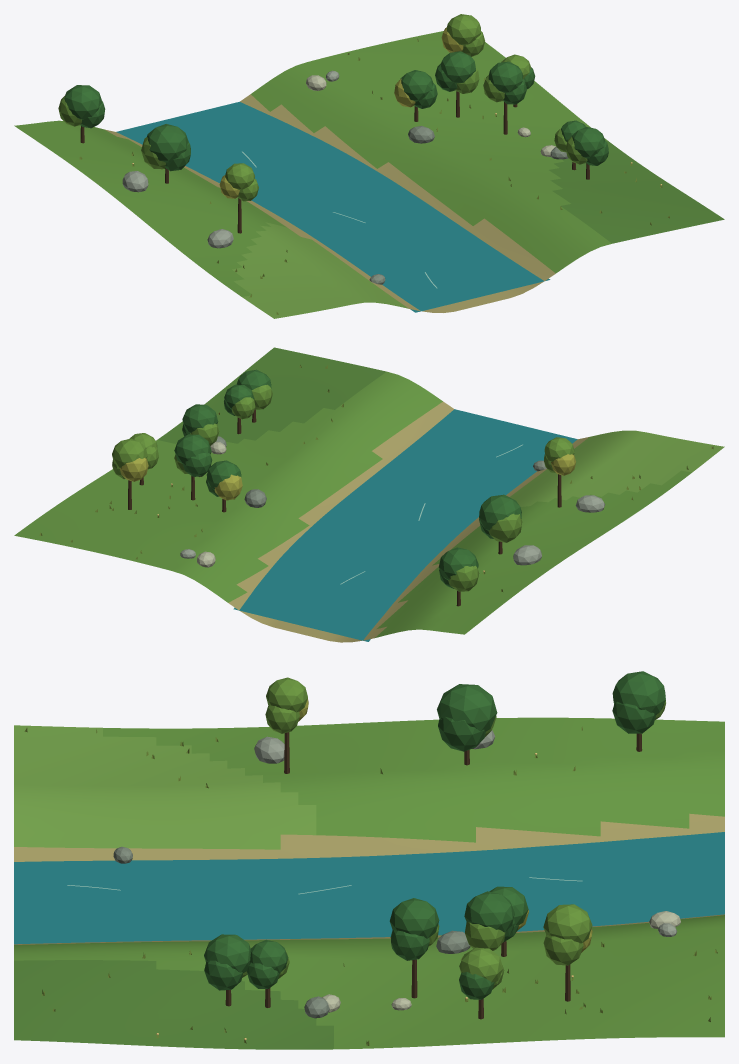
The model's file is Chunk_X0_Y0_Z-3.fbx.
3 views of the same model, one above another, from view 1: azimuth 30°, elevation 25°; view 2: azimuth 150°, elevation 25°; view 3: azimuth 270°, elevation 25° (orthographic). The views are drawn at different scales.
Parts seen in each view (by area): view 1: Terrain.021, Water, Canopies.021, Rocks.021, Trunks.021; view 2: Terrain.021, Water, Canopies.021, Rocks.021, Trunks.021; view 3: Terrain.021, Water, Canopies.021, Rocks.021, Trunks.021.
Boxes of the visible parts, box(x1,y1,x2,y2) form: Terrain.021: box(14, 31, 724, 318); Water: box(116, 101, 550, 312); Canopies.021: box(58, 14, 608, 201); Rocks.021: box(122, 70, 568, 284); Trunks.021: box(80, 91, 589, 233); Terrain.021: box(14, 347, 724, 642); Water: box(233, 409, 577, 641); Canopies.021: box(112, 369, 575, 591); Rocks.021: box(180, 436, 605, 567); Trunks.021: box(128, 409, 561, 606); Terrain.021: box(14, 717, 724, 1049); Water: box(14, 832, 724, 944); Canopies.021: box(204, 671, 665, 999); Rocks.021: box(113, 730, 680, 1018); Trunks.021: box(225, 732, 642, 1019).
Bounding box in the file's own units: 100 × 21.68 × 100.
